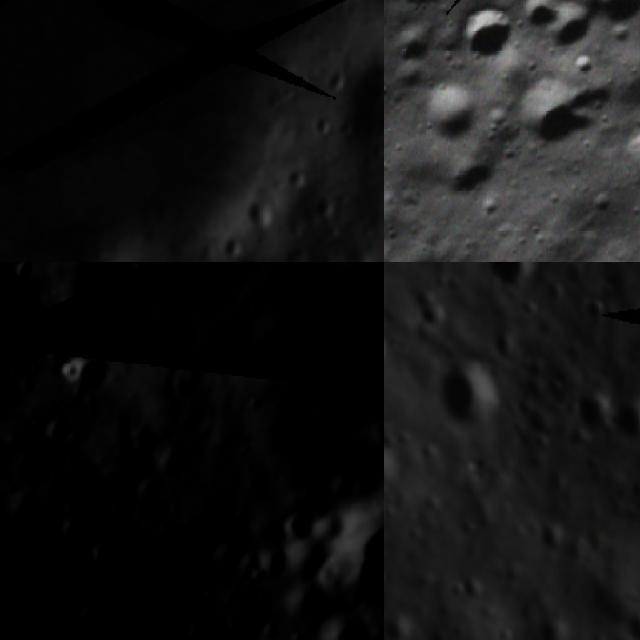crater: (244, 262, 384, 451), (296, 458, 384, 640), (501, 48, 612, 159), (404, 66, 494, 156), (422, 132, 511, 220), (432, 354, 510, 436), (269, 561, 348, 640), (442, 0, 525, 73), (39, 490, 111, 564), (5, 602, 145, 640), (58, 340, 131, 412), (264, 494, 330, 560), (240, 529, 304, 593), (536, 0, 604, 60), (304, 593, 384, 640), (476, 262, 550, 308), (75, 528, 131, 584), (608, 112, 640, 203), (384, 16, 436, 70), (577, 0, 640, 42), (508, 0, 572, 39), (571, 386, 614, 438), (76, 591, 119, 636), (608, 391, 640, 450), (46, 575, 84, 612), (579, 287, 615, 326), (4, 262, 47, 292), (413, 296, 447, 331), (617, 605, 640, 640)
